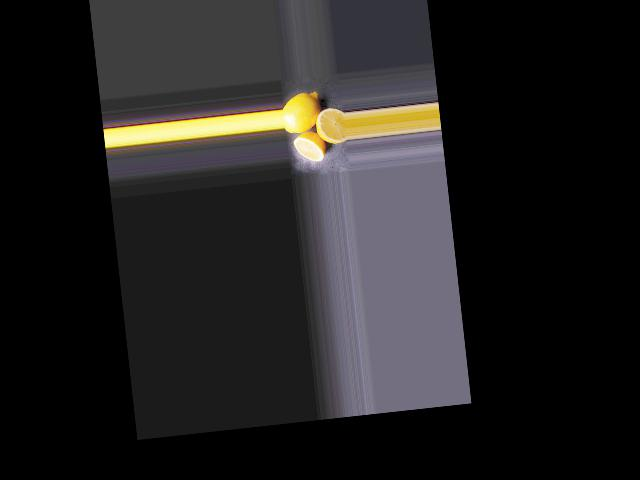lemon: (281, 88, 321, 136)
